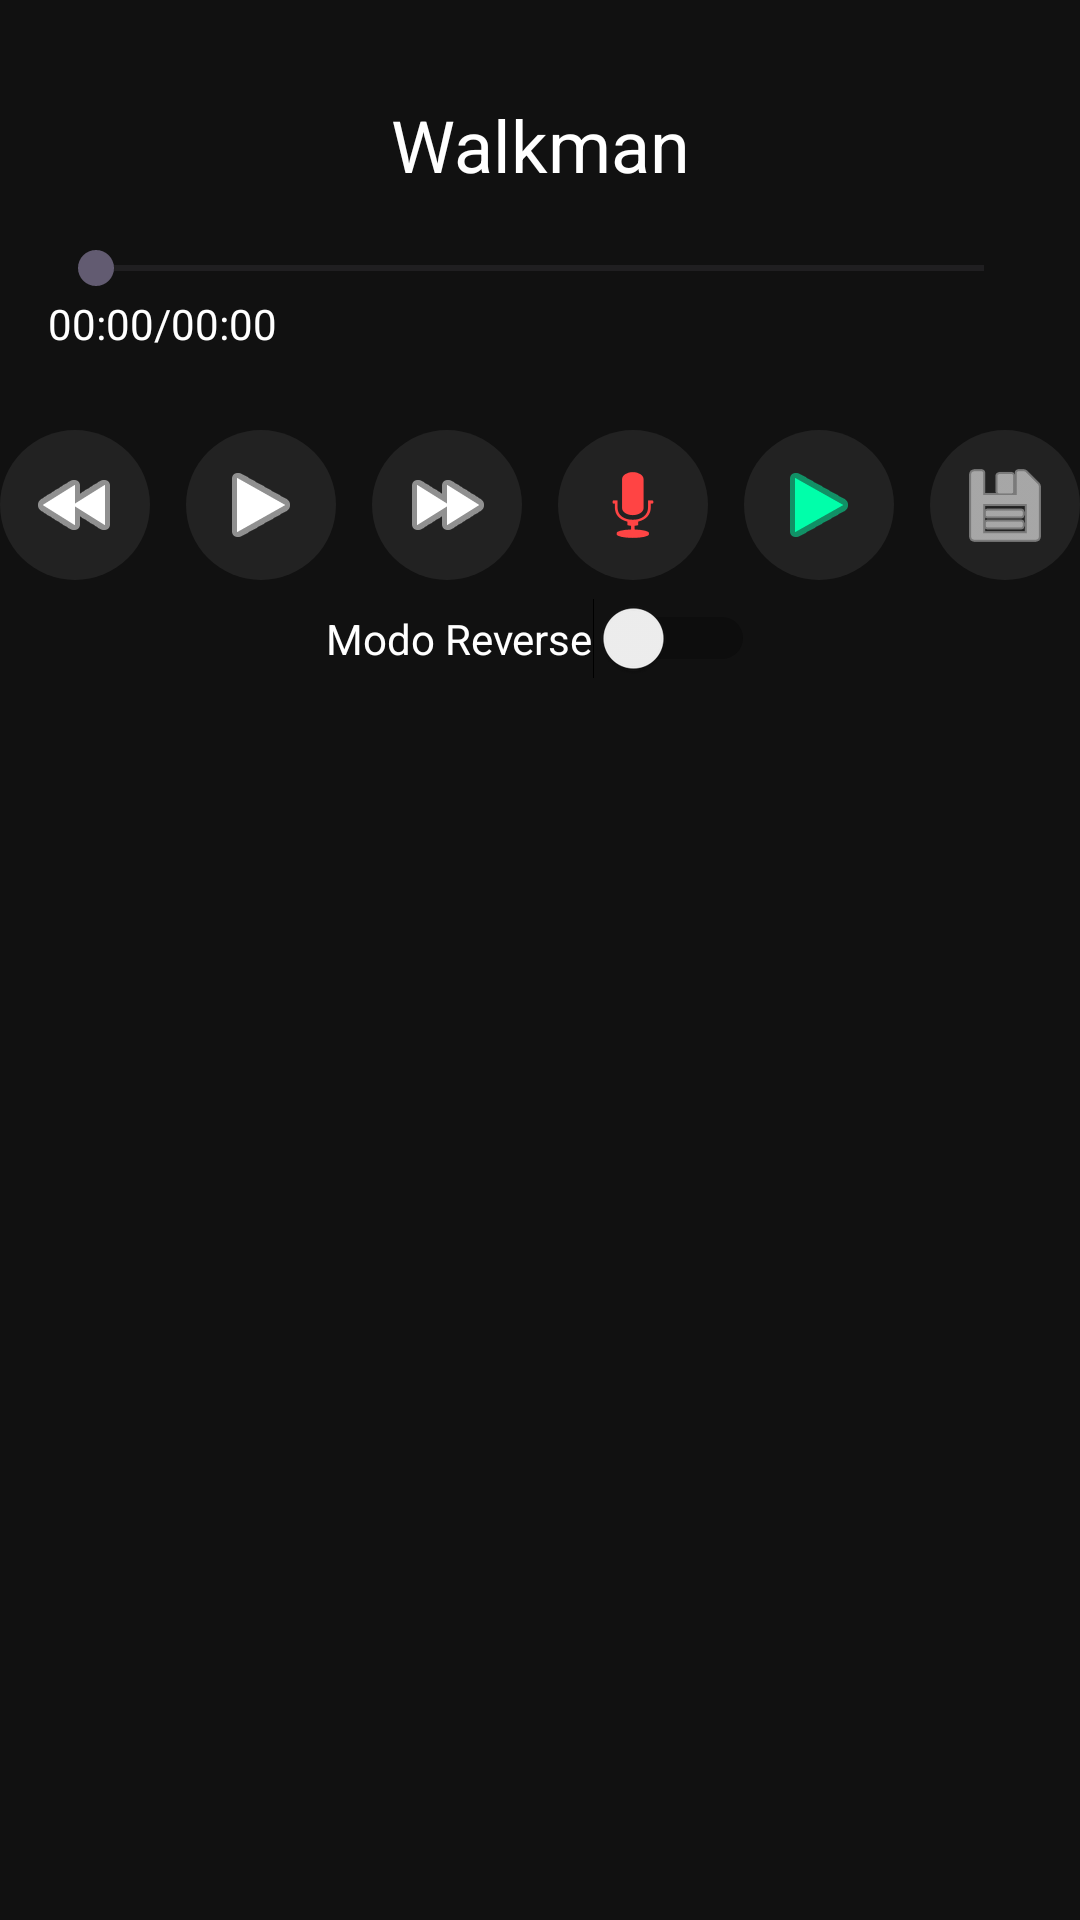

Icon bounding boxes for this 1080px x 1920px phone screenshot, format (x1, y1, x2, y2):
play: (232, 473, 290, 537), (790, 473, 848, 537)
rew: (38, 480, 110, 530)
save: (969, 469, 1041, 542)
speak now: (612, 472, 654, 538)
